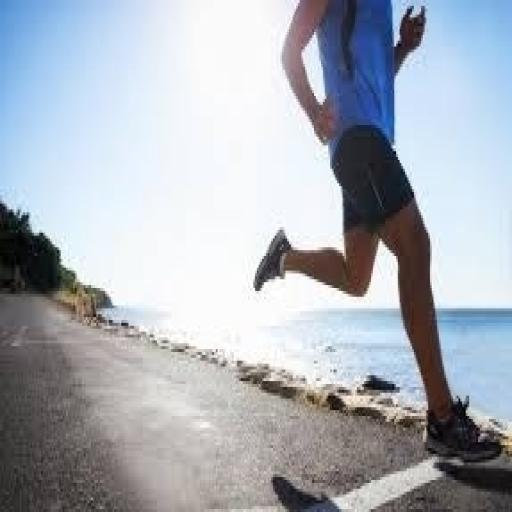running: (251, 0, 503, 465)
